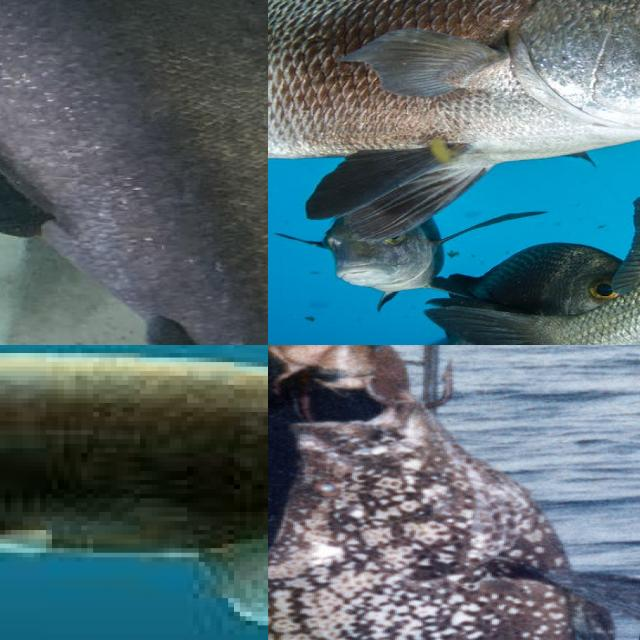fish: (352, 0, 640, 345), (268, 390, 640, 640), (0, 0, 268, 345), (0, 345, 268, 640)
